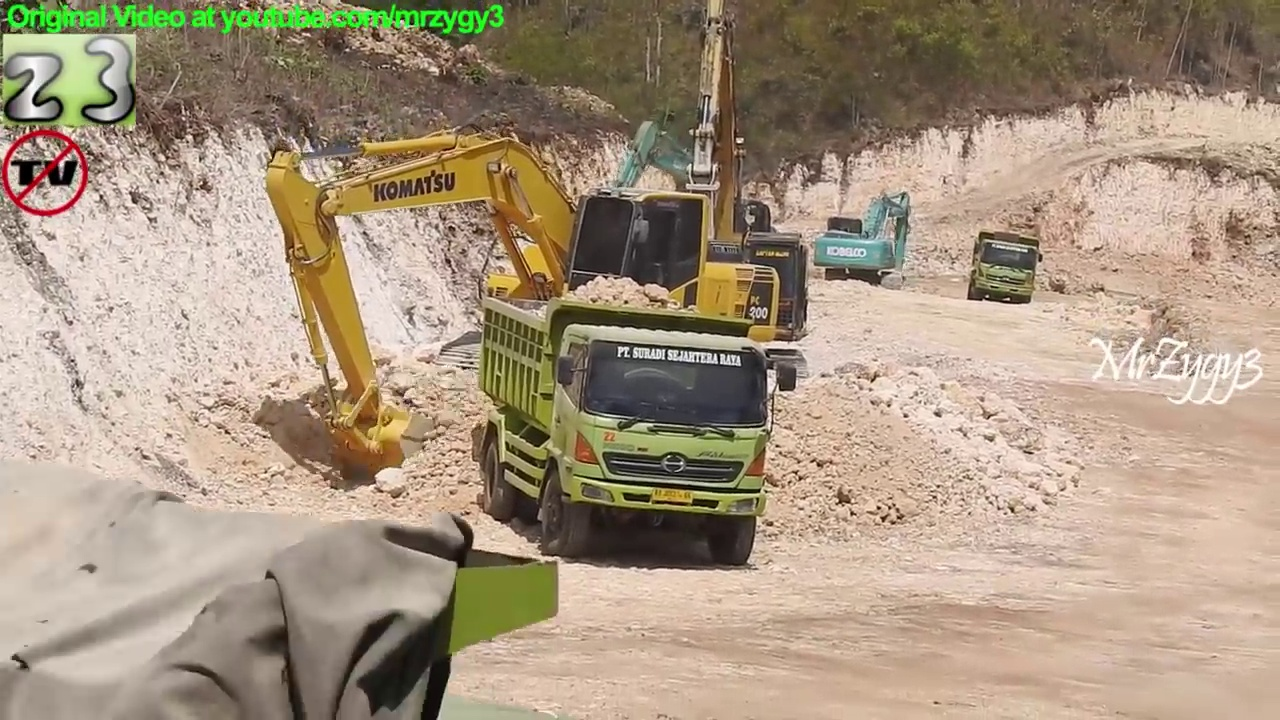excavator: (262, 134, 781, 488), (512, 1, 815, 402), (810, 185, 913, 296)
truck: (1, 465, 563, 720), (474, 288, 803, 568), (965, 228, 1047, 309)
